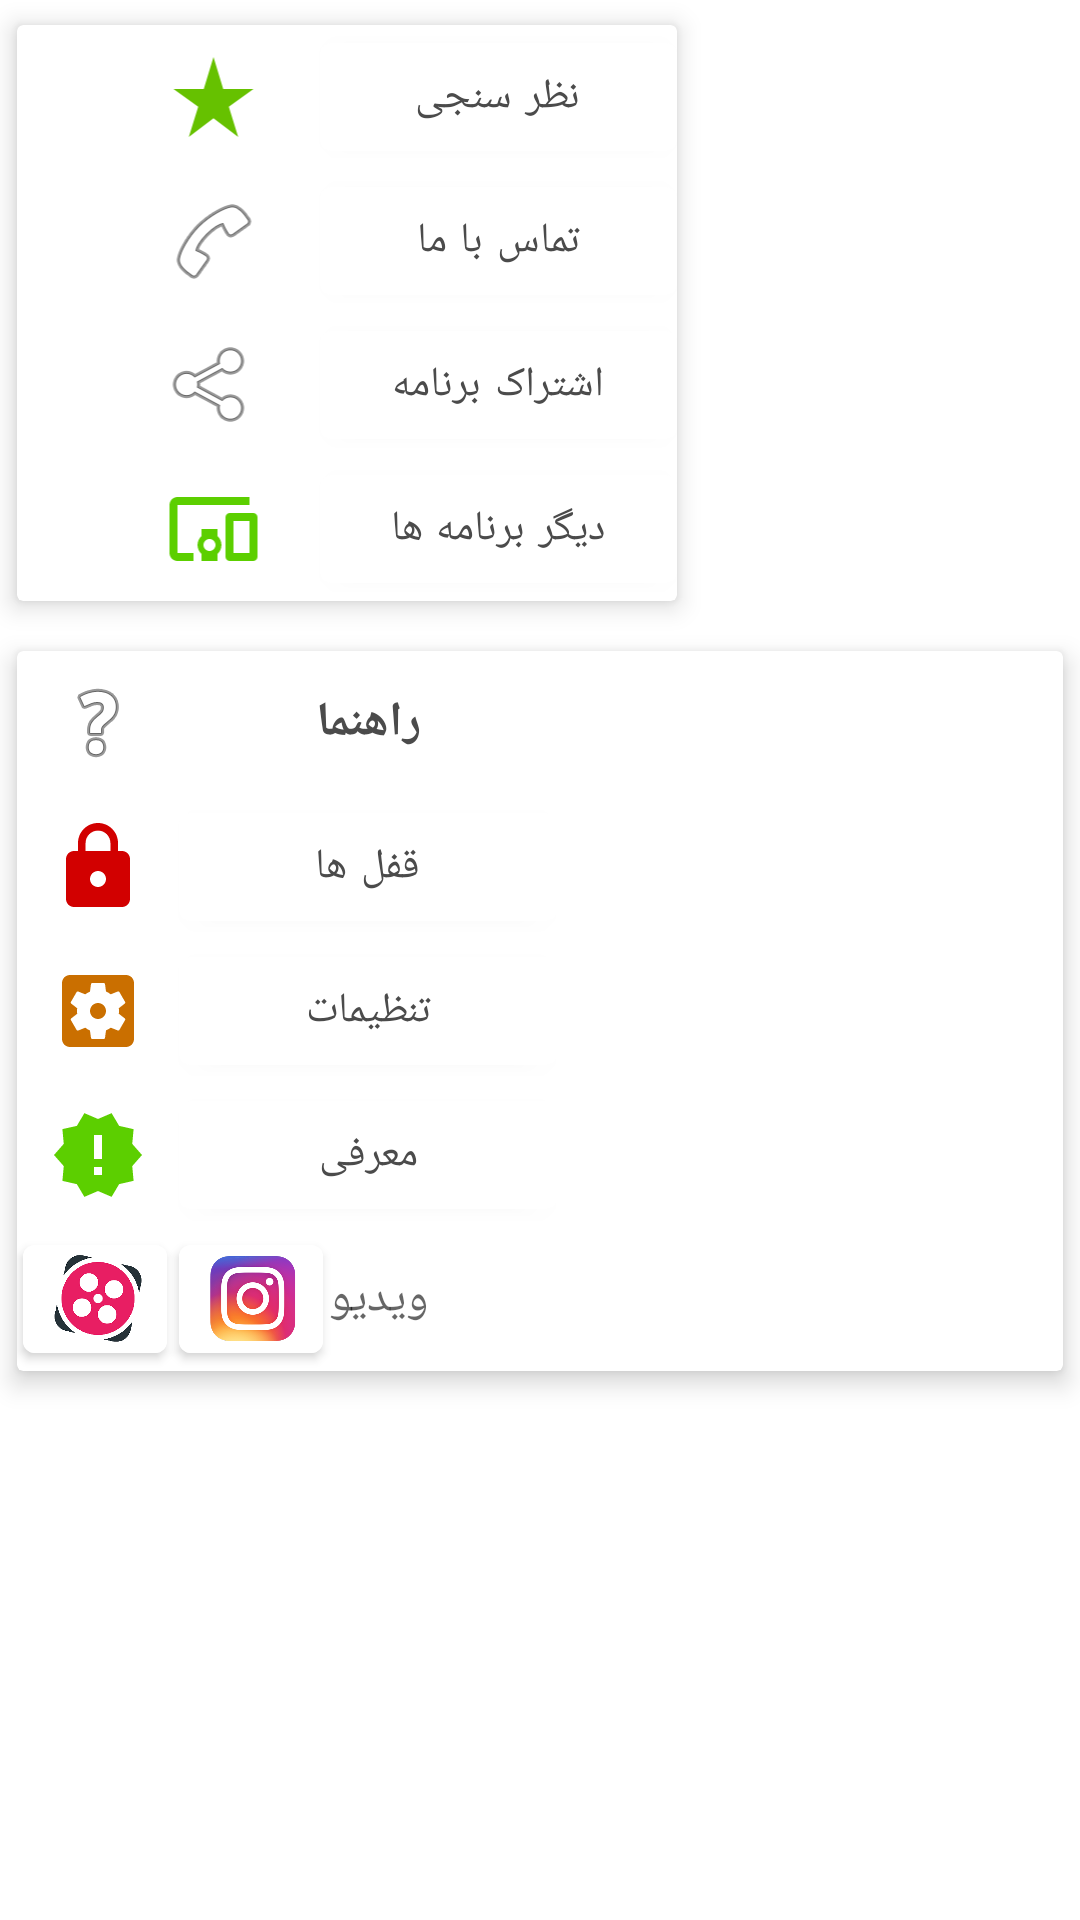

Screen size 1080 x 1920. Icon name, then its box in pixels as Rect(x1, y1, x2, y2):
call: Rect(176, 204, 252, 279)
devices other: Rect(169, 497, 258, 561)
help: Rect(77, 689, 119, 757)
lock: Rect(66, 823, 130, 907)
releases: Rect(54, 1113, 142, 1197)
settings applications: Rect(62, 975, 134, 1047)
share: Rect(172, 347, 245, 422)
star rate: Rect(173, 57, 254, 137)
